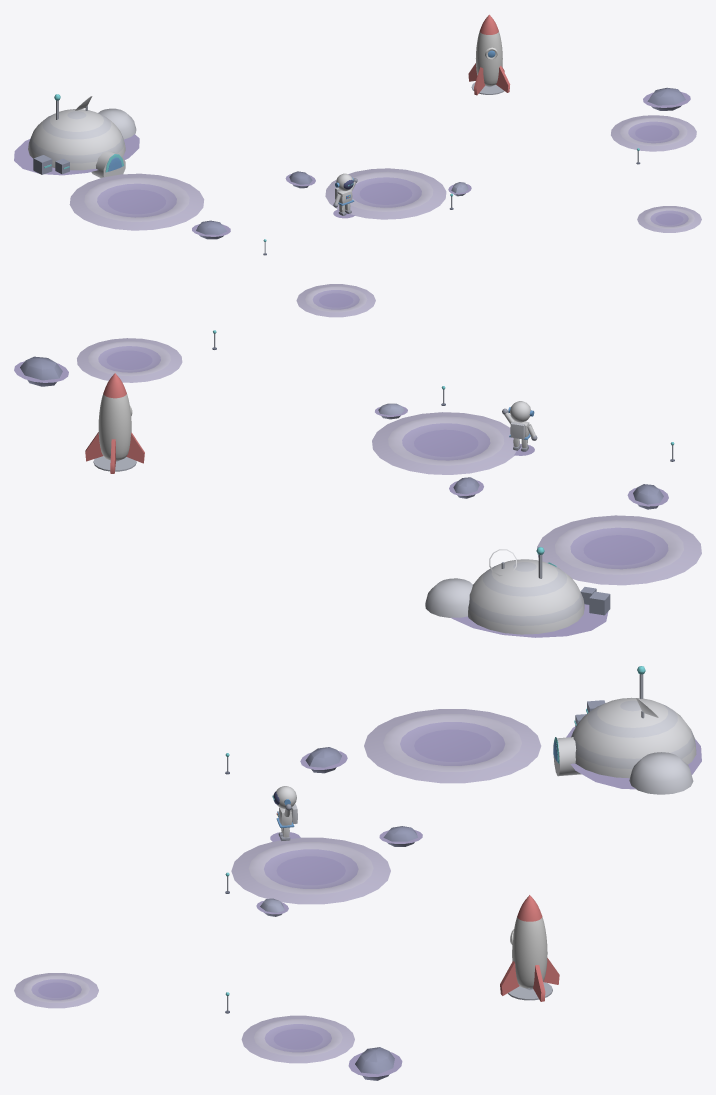
The model's file is moon-near.glb.
The picture shows the model from 3 angles, top to bottom: view 1: azimuth 30°, elevation 25°; view 2: azimuth 150°, elevation 25°; view 3: azimuth 270°, elevation 25°; orthographic projection. The views are drawn at different scales.
Parts seen in each view (by area): view 1: moon-near; view 2: moon-near; view 3: moon-near.
Boxes of the visible parts, box(x1,y1,x2,y2) form: moon-near: box(14, 14, 701, 255); moon-near: box(14, 284, 701, 637); moon-near: box(14, 666, 701, 1080).
Bounding box in the file's own units: 68.26 × 9.69 × 53.5.
